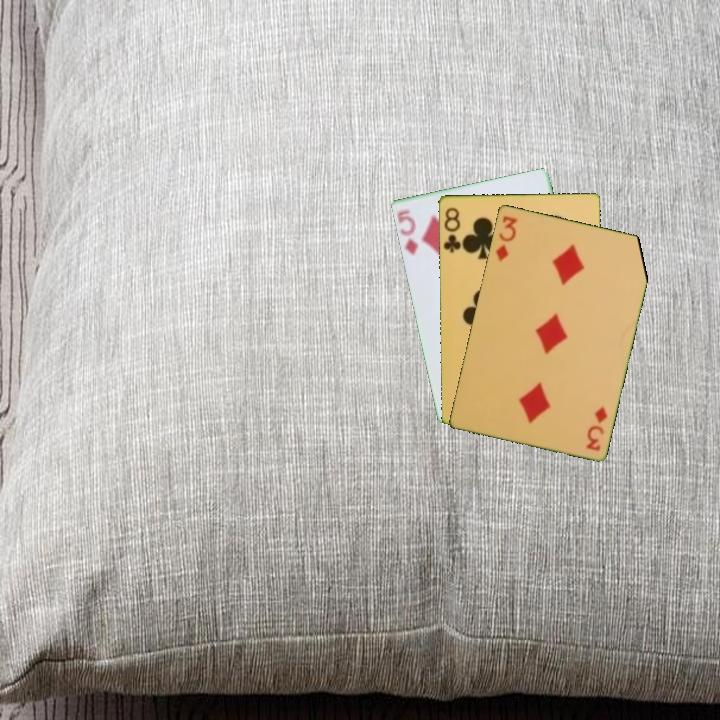3d: (491, 212, 520, 264), (583, 402, 610, 454)
5d: (393, 206, 420, 258)
8c: (440, 204, 463, 255)
